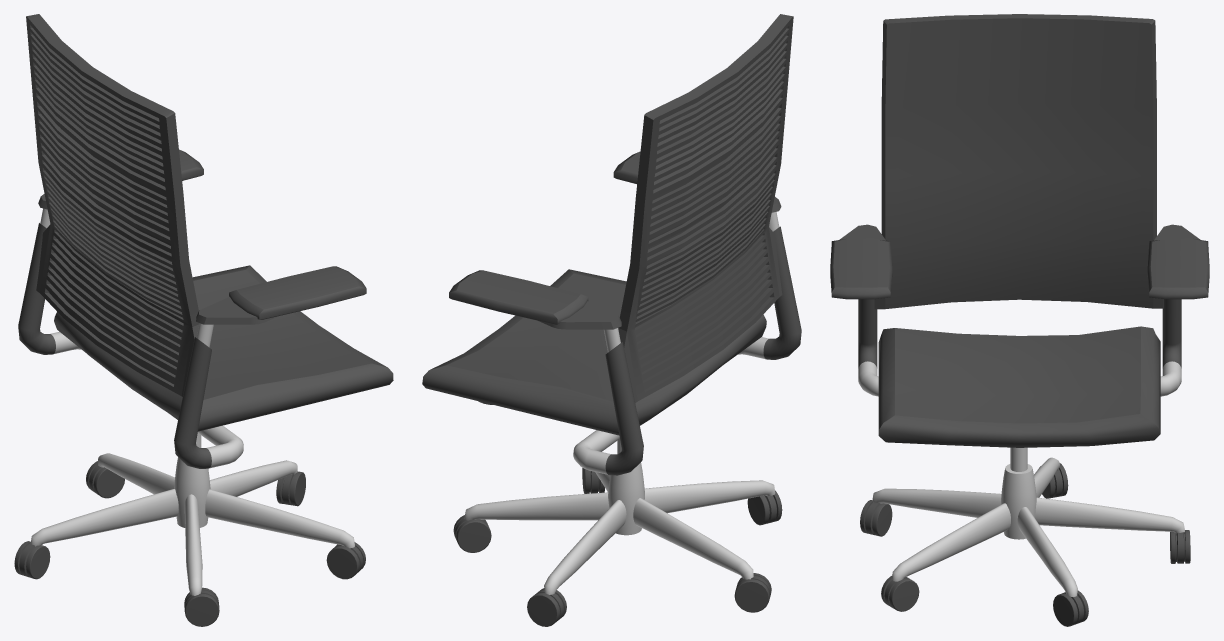
Rendered from Chair.glb.
The picture shows the model from 3 angles, left to right: view 1: azimuth 30°, elevation 25°; view 2: azimuth 150°, elevation 25°; view 3: azimuth 270°, elevation 25°; orthographic projection. The views are drawn at different scales.
Visible parts, largest first — view 1: pCylinder10; view 2: pCylinder10; view 3: pCylinder10.
Boxes of the visible parts, x1,y1,x2,y2 form: pCylinder10: [14, 14, 393, 626]; pCylinder10: [422, 14, 801, 626]; pCylinder10: [830, 14, 1209, 626].
Bounding box in the file's own units: 0.607 × 0.9849 × 0.6775.
Materials: 1 (1 with a texture image).
